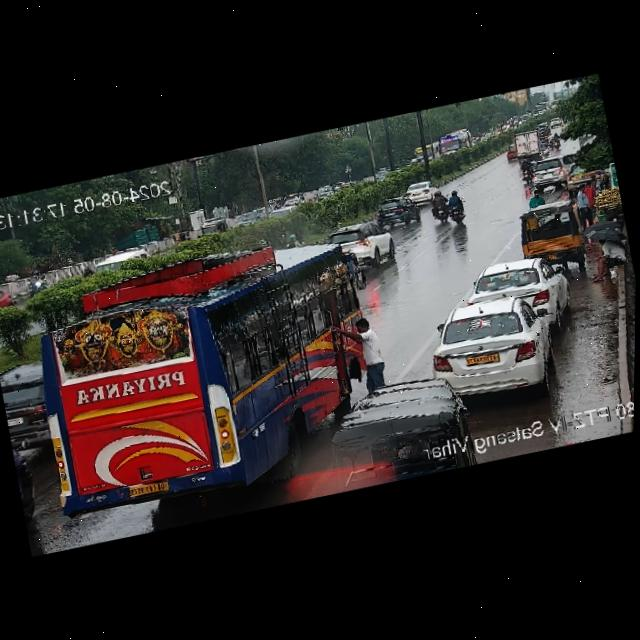bus: (10, 218, 394, 529), (438, 127, 476, 156)
car: (419, 286, 557, 403), (348, 367, 469, 452), (468, 248, 570, 333), (0, 361, 54, 455), (523, 202, 585, 274), (336, 217, 395, 269), (529, 149, 577, 185), (371, 194, 419, 229), (403, 178, 439, 207)
motorcycle: (446, 190, 467, 225), (430, 190, 450, 224), (27, 271, 47, 297), (518, 158, 535, 183), (544, 132, 558, 150), (550, 132, 562, 149)
person: (342, 309, 388, 392), (580, 229, 634, 286), (574, 184, 595, 230), (583, 179, 600, 209), (525, 185, 545, 210)
truck: (510, 125, 545, 163)
